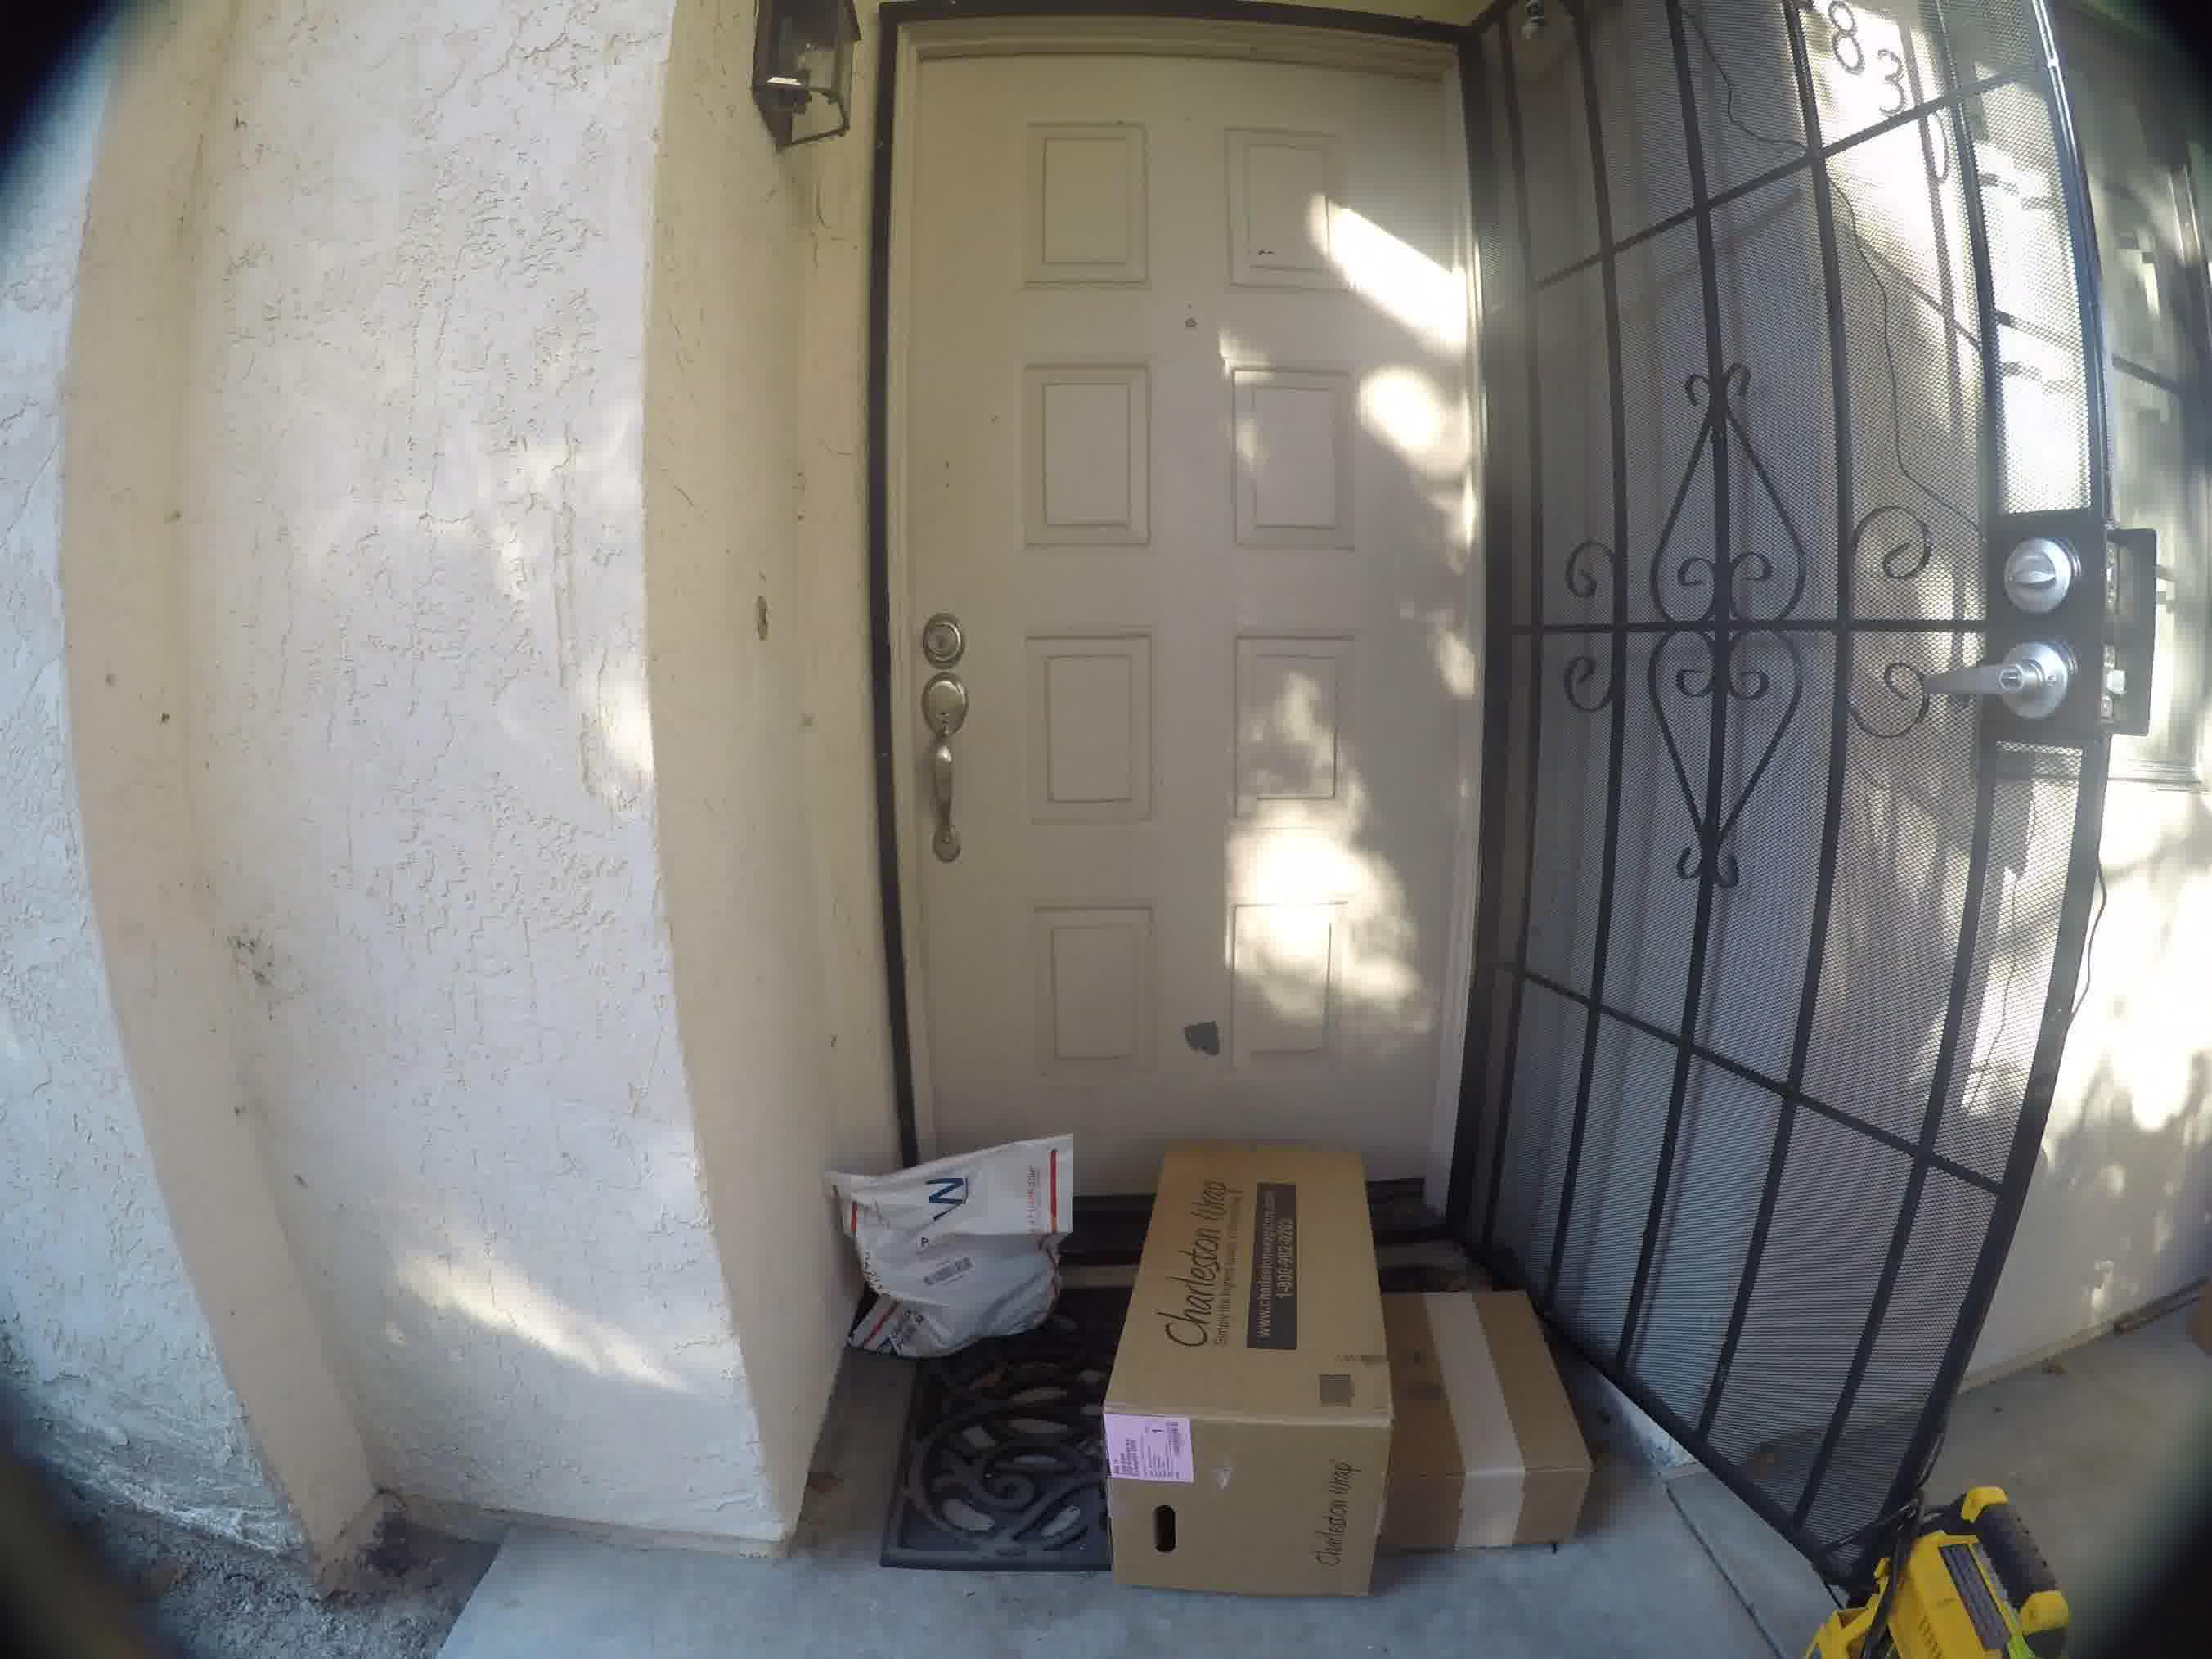box: (1116, 1103, 1388, 1605), (1395, 1263, 1622, 1558)
plastic_bag: (840, 1147, 1073, 1358)
